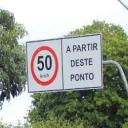speed_limit_50: (30, 44, 59, 86)
